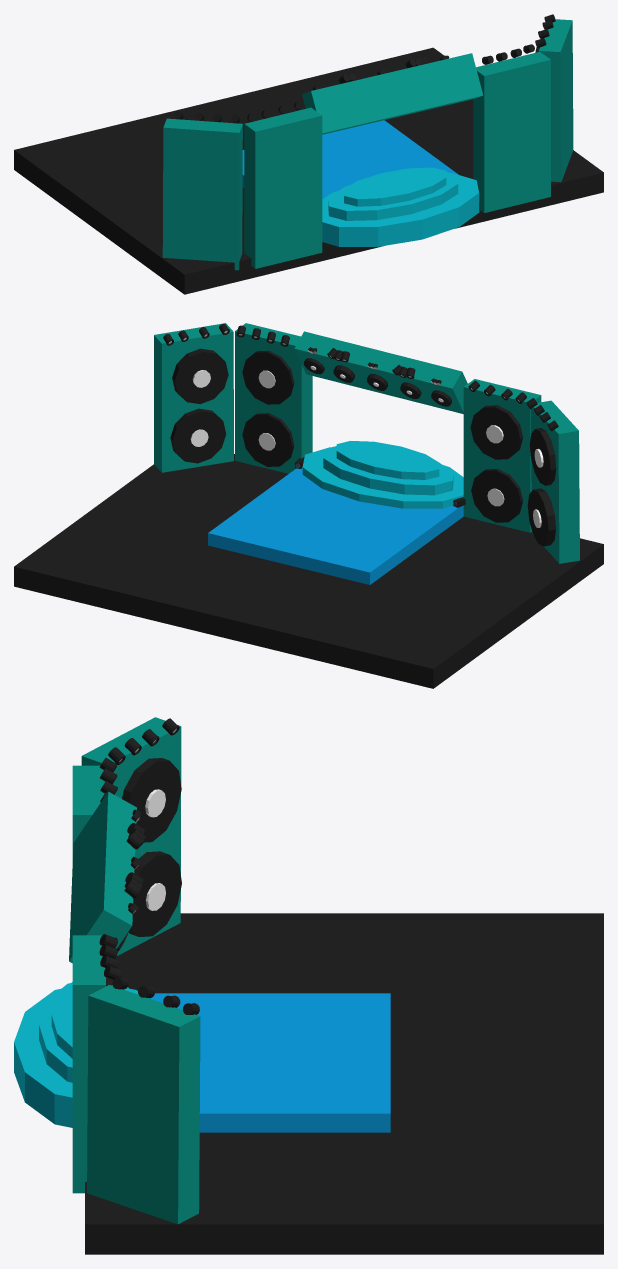
Rendered from scene_GBrDQxkUXx.glb.
3 views of the same model, one above another, from view 1: azimuth 30°, elevation 25°; view 2: azimuth 150°, elevation 25°; view 3: azimuth 270°, elevation 25° (orthographic). The views are drawn at different scales.
Parts seen in each view (by area): view 1: group771530412, group885771481, group1857431487, group657821834, group959325566, group2057343033, group2093559352, group811626294, group1487801020, group1065885900; view 2: group771530412, group2057343033, group811626294, group657821834, group959325566, group885771481, group1857431487, group2093559352, group1487801020, group1065885900, group1426257500, group1465698848 (+6 smaller); view 3: group771530412, group2057343033, group811626294, group959325566, group657821834, group1857431487, group2093559352, group1849001110, group1205982878, group885771481, group1065885900, group1487801020.
Boxes of the visible parts, x1,y1,x2,y2 form: group771530412: (14, 47, 603, 294); group885771481: (244, 107, 322, 268); group1857431487: (162, 118, 242, 270); group657821834: (473, 51, 550, 212); group959325566: (302, 53, 483, 134); group2057343033: (242, 120, 458, 199); group2093559352: (322, 173, 479, 246); group811626294: (538, 19, 573, 182); group1487801020: (344, 167, 446, 206); group1065885900: (328, 172, 458, 220); group771530412: (14, 454, 603, 688); group2057343033: (208, 467, 463, 584); group811626294: (154, 323, 233, 472); group657821834: (235, 323, 312, 473); group959325566: (294, 331, 467, 413); group885771481: (463, 379, 541, 532); group1857431487: (531, 400, 579, 563); group2093559352: (302, 447, 463, 508); group1487801020: (336, 441, 439, 479); group1065885900: (323, 446, 453, 495); group1426257500: (172, 348, 228, 404); group1465698848: (170, 408, 226, 463); group771530412: (85, 913, 603, 1254); group2057343033: (148, 993, 390, 1132); group811626294: (87, 985, 200, 1224); group959325566: (69, 791, 136, 963); group657821834: (72, 935, 105, 1193); group1857431487: (81, 717, 181, 955); group2093559352: (14, 989, 138, 1127); group1849001110: (122, 758, 181, 842); group1205982878: (128, 851, 181, 936); group885771481: (72, 765, 105, 859); group1065885900: (39, 983, 134, 1082); group1487801020: (51, 982, 112, 1058).
Bounding box in the file's own units: 1.76 × 0.6637 × 1.41.
